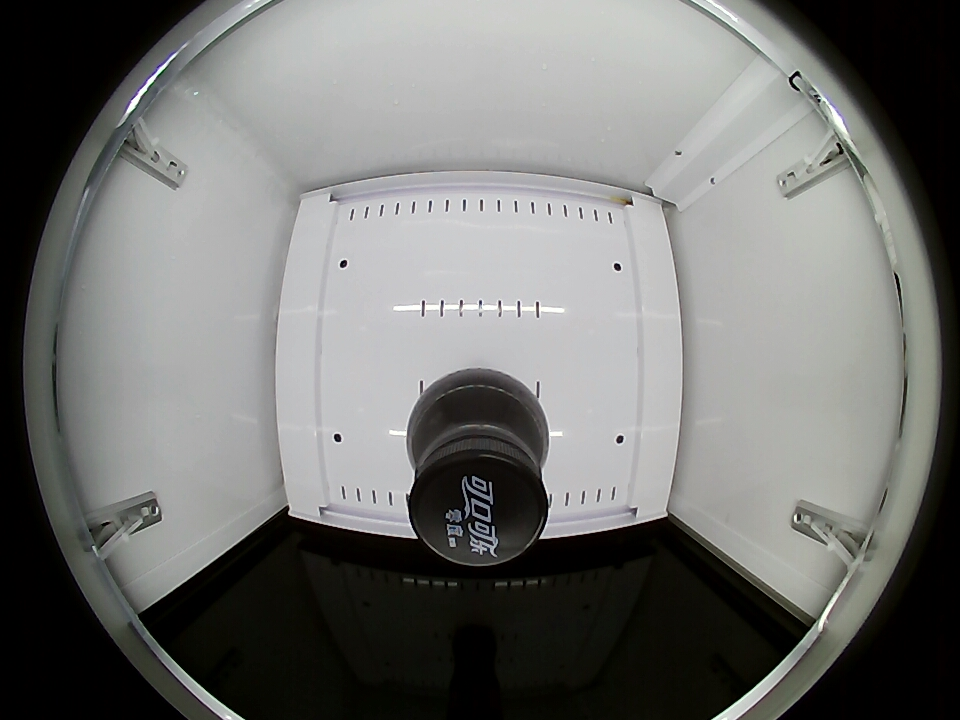lingdukele-b: (405, 382, 551, 566)
